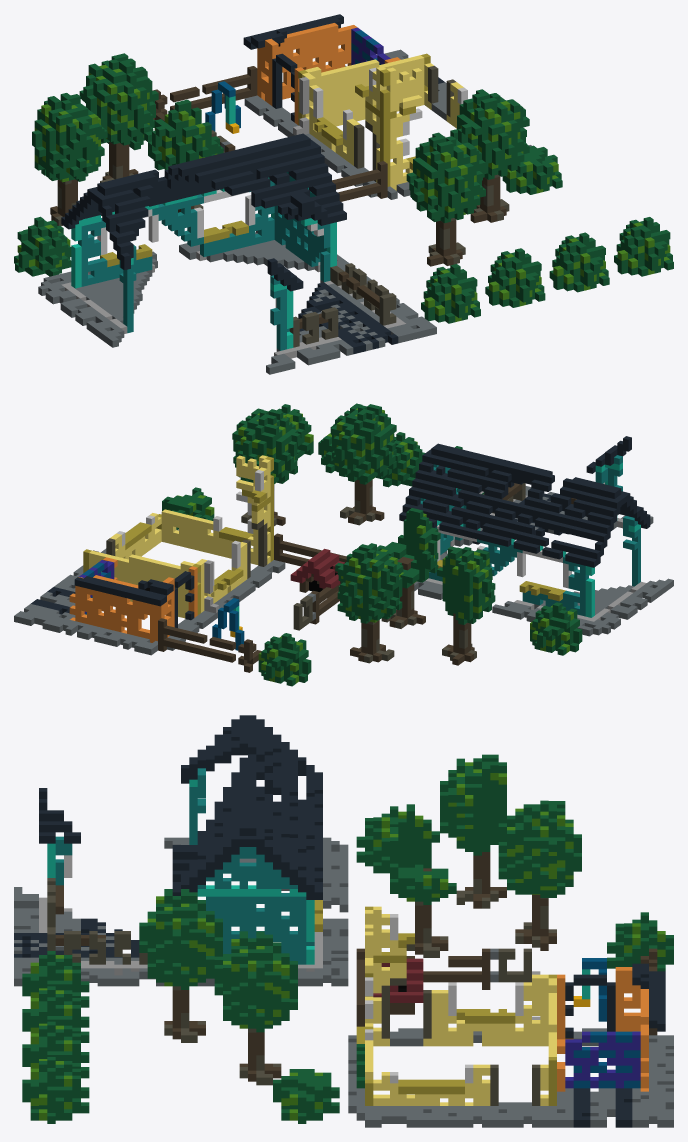
The model's file is building_small_10_destroyed.obj.
The picture shows the model from 3 angles, top to bottom: view 1: azimuth 30°, elevation 25°; view 2: azimuth 150°, elevation 25°; view 3: azimuth 270°, elevation 25°; orthographic projection. The views are drawn at different scales.
Size of the model in its own units: 8 by 1.9 by 7.9.
Materials: 1 (1 with a texture image).
